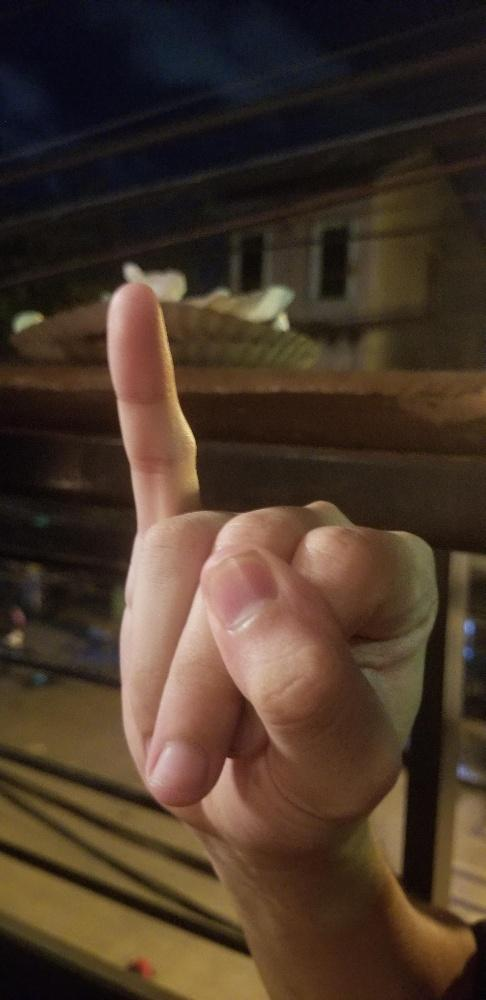i: (99, 279, 441, 852)
